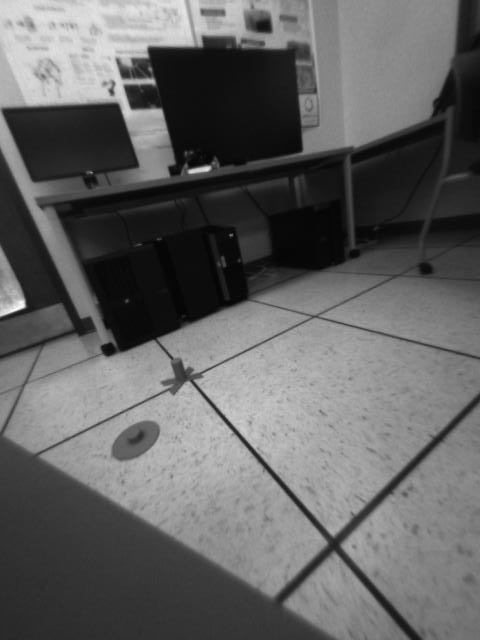X: (161, 359, 203, 395)
